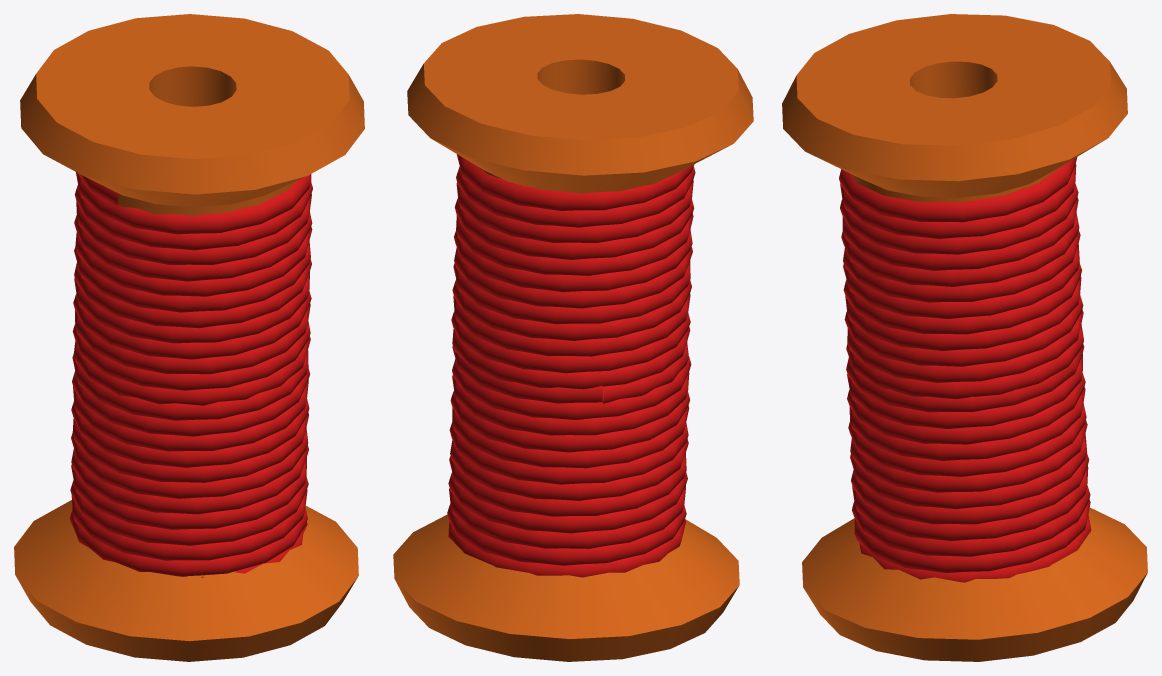
Rendered from COIL 1.FBX.
3 views of the same model, side by side, from view 1: azimuth 30°, elevation 25°; view 2: azimuth 150°, elevation 25°; view 3: azimuth 270°, elevation 25° (orthographic).
Parts seen in each view (by area): view 1: Cylinder075; view 2: Cylinder075; view 3: Cylinder075.
Part boxes in pixels (x1,y1,x2,y2): Cylinder075: [14, 14, 364, 661]; Cylinder075: [393, 14, 753, 661]; Cylinder075: [782, 14, 1147, 661].
Size of the model in its own units: 44.27 by 72.36 by 45.65.
